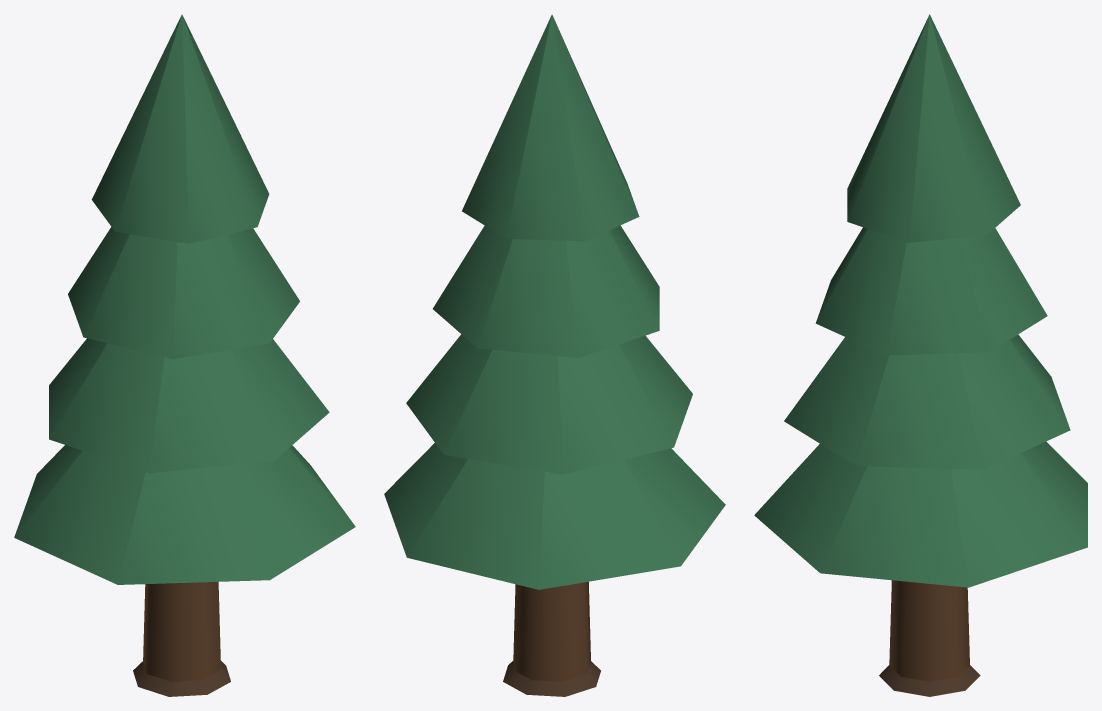
Rendered from pine_l02.glb.
3 renders of one model, left to right at view 1: azimuth 30°, elevation 25°; view 2: azimuth 150°, elevation 25°; view 3: azimuth 270°, elevation 25°, orthographic.
Visible parts, largest first — view 1: pine_l02; view 2: pine_l02; view 3: pine_l02.
Boxes of the visible parts, box(x1,y1,x2,y2) form: pine_l02: box(14, 14, 355, 696); pine_l02: box(384, 14, 725, 696); pine_l02: box(754, 14, 1087, 696).
Bounding box in the file's own units: 1.85 × 3.95 × 1.81.
